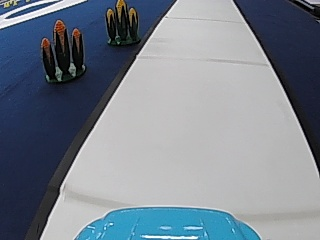corn: (40, 19, 88, 82), (103, 0, 141, 45)
